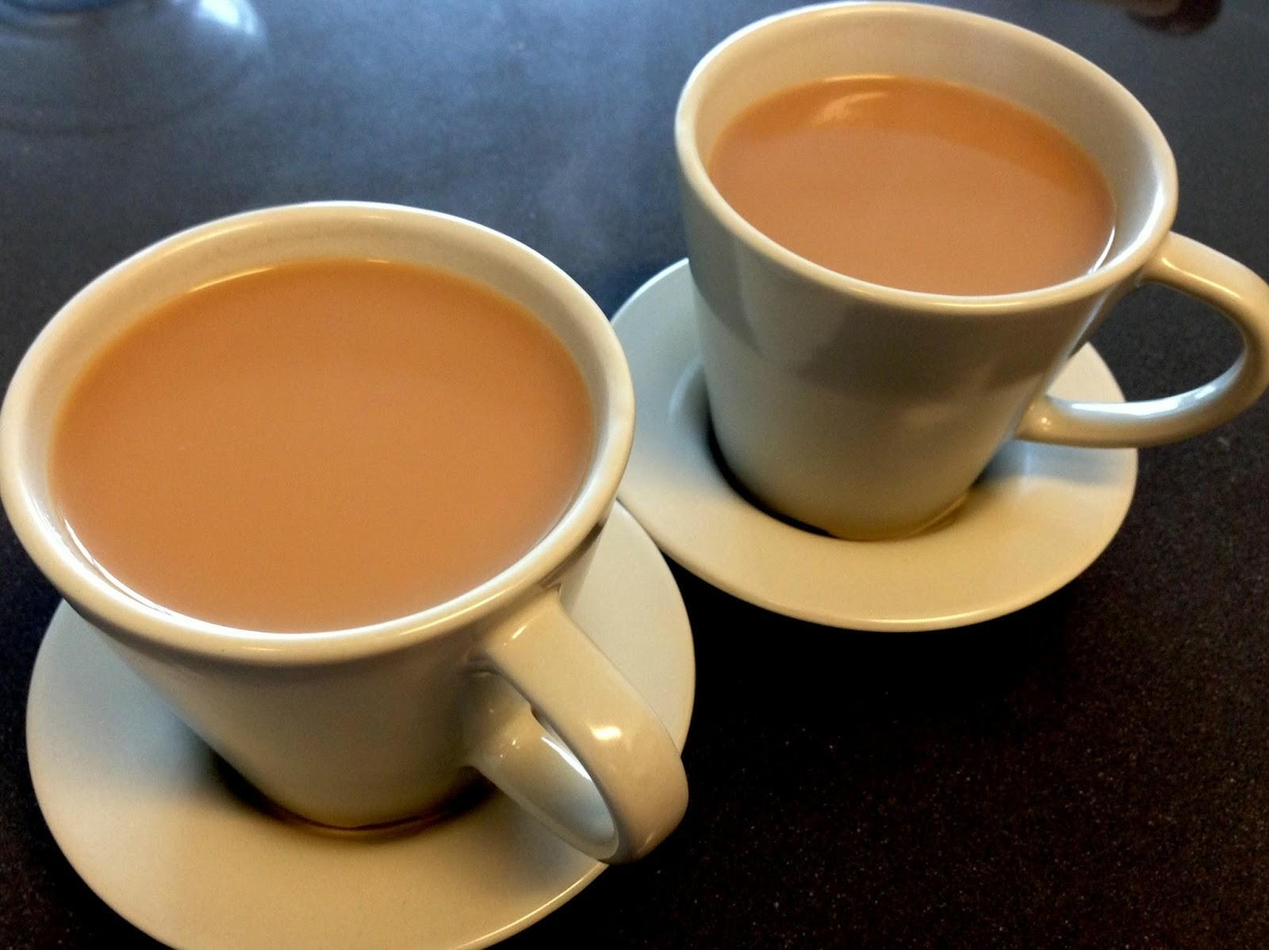Chai: (49, 258, 595, 634), (709, 72, 1121, 296)
